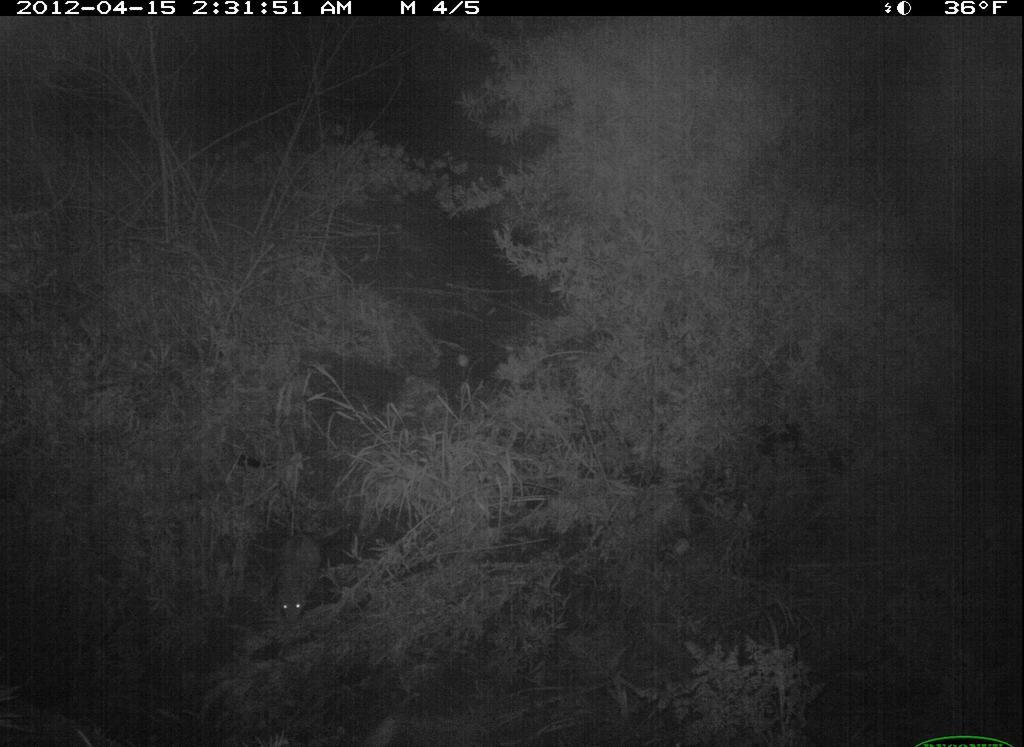opossum: (262, 524, 346, 629)
